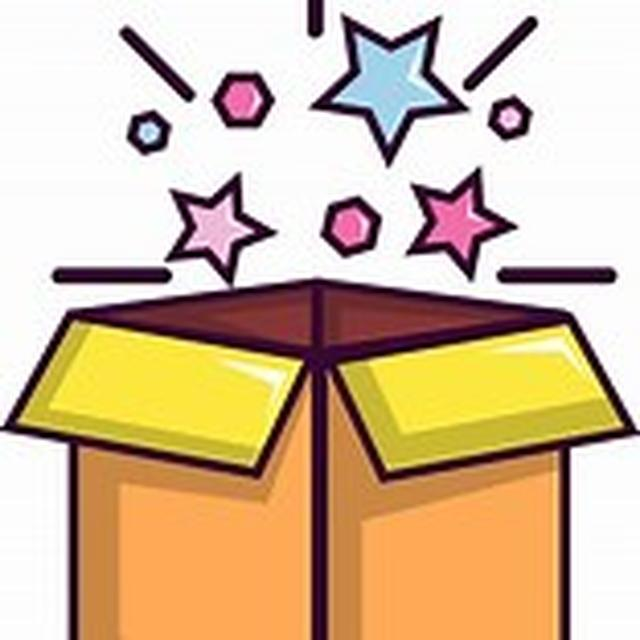box: (27, 252, 583, 640)
